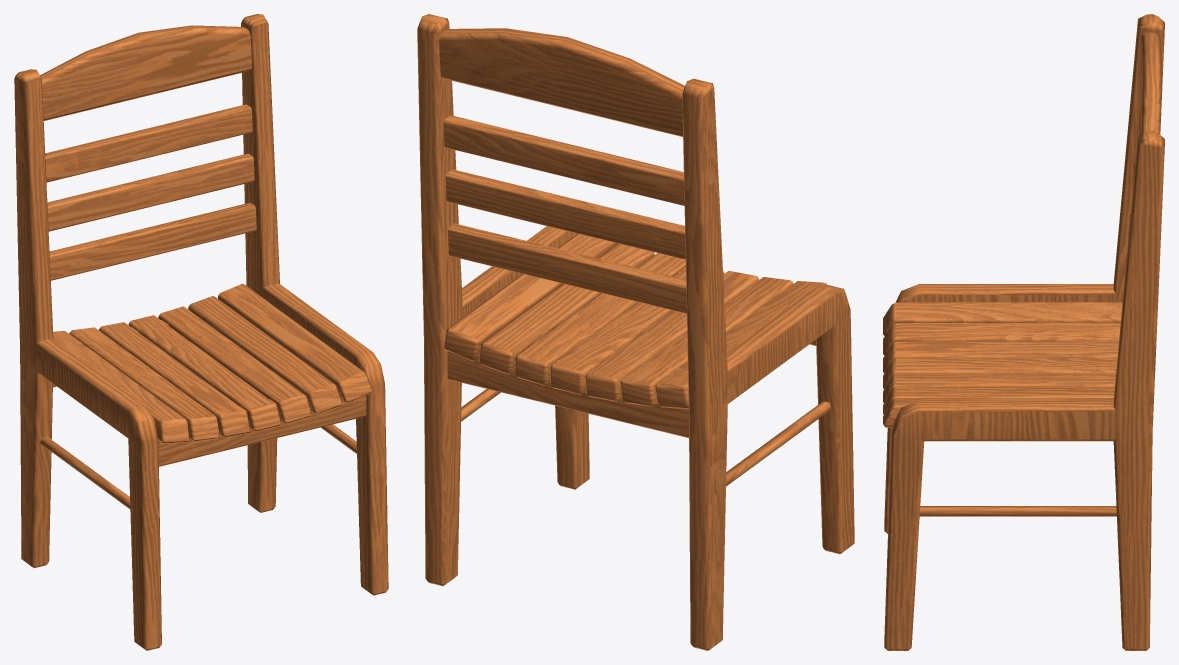
File: chair_028.fbx
3 renders of one model, left to right at view 1: azimuth 30°, elevation 25°; view 2: azimuth 150°, elevation 25°; view 3: azimuth 270°, elevation 25°, orthographic. The views are drawn at different scales.
Visible parts, largest first — view 1: chair_028; view 2: chair_028; view 3: chair_028.
Part boxes in pixels (bbox=[...]): chair_028: bbox=[14, 14, 388, 650]; chair_028: bbox=[417, 14, 854, 650]; chair_028: bbox=[883, 14, 1164, 650].
Bounding box in the file's own units: 64.3 × 60.78 × 125.
